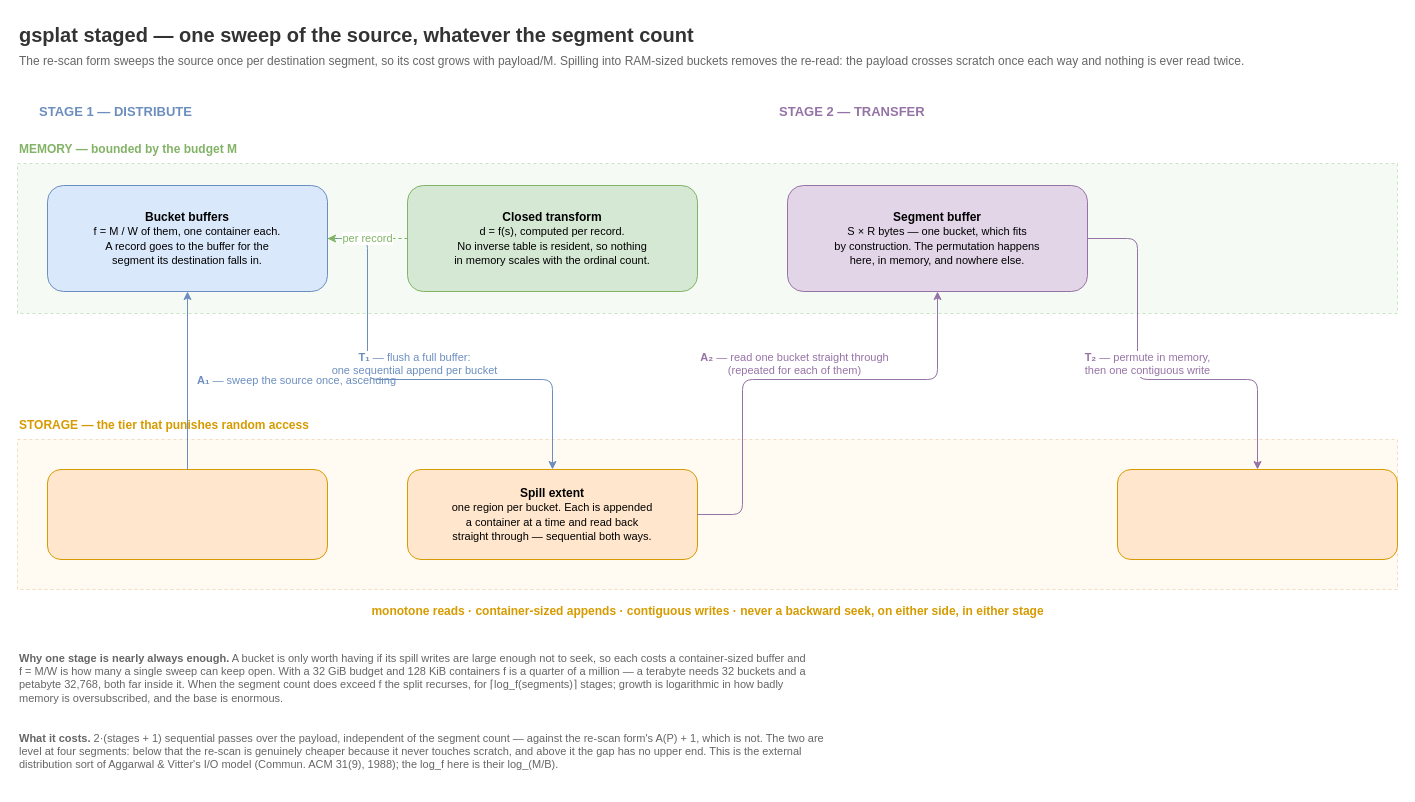
Some shapes in this 1415 by 802 pixel diagram are drawn without their labels. The centre of each missing label's shape, as x and y in pixels:
"Output records N × R, in destination order" belongs at (x=1257, y=514).
"Source records N × R, in ordinal order" belongs at (x=187, y=514).
